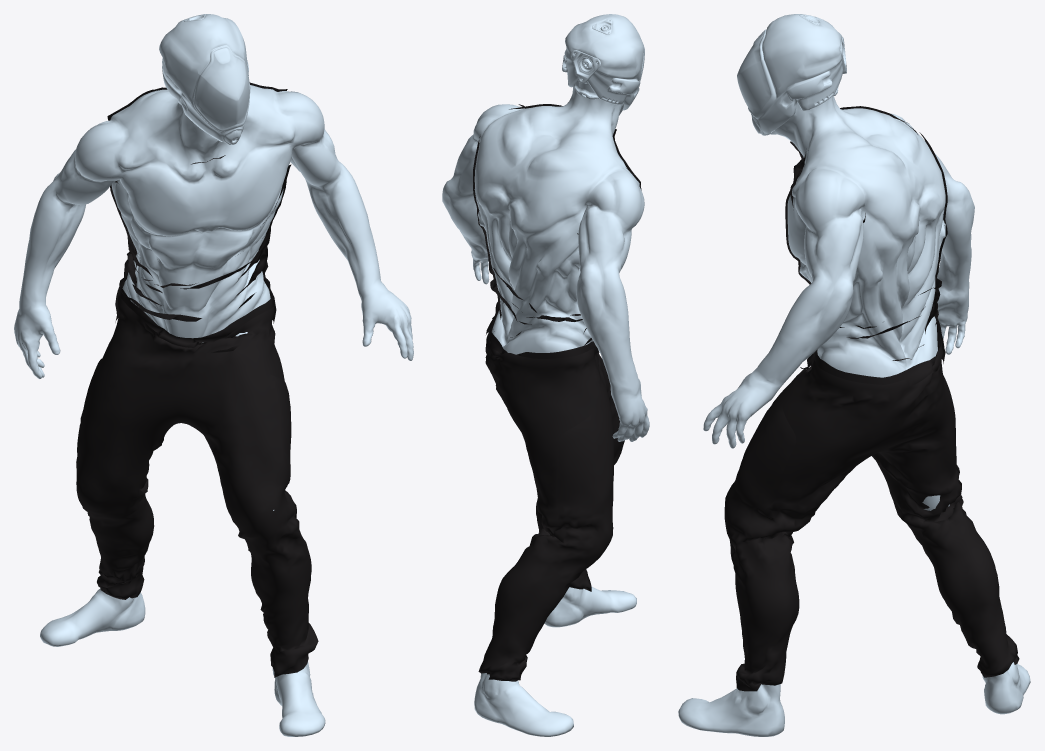
The model's file is jumping.fbx.
3 views of the same model, side by side, from view 1: azimuth 30°, elevation 25°; view 2: azimuth 150°, elevation 25°; view 3: azimuth 270°, elevation 25° (orthographic). The views are drawn at different scales.
Visible parts, largest first — view 1: Ch44233057, cloth_parent; view 2: Ch44233057, cloth_parent; view 3: Ch44233057, cloth_parent.
Part boxes in pixels (x1,y1,x2,y2): Ch44233057: (14, 14, 413, 736); cloth_parent: (76, 82, 318, 677); Ch44233057: (442, 14, 649, 736); cloth_parent: (473, 104, 641, 681); Ch44233057: (678, 14, 1030, 736); cloth_parent: (724, 106, 1019, 691).
Bounding box in the file's own units: 78.57 × 178 × 83.42.
